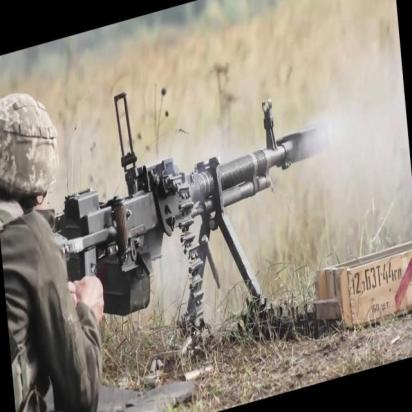Gun: (72, 106, 330, 279)
